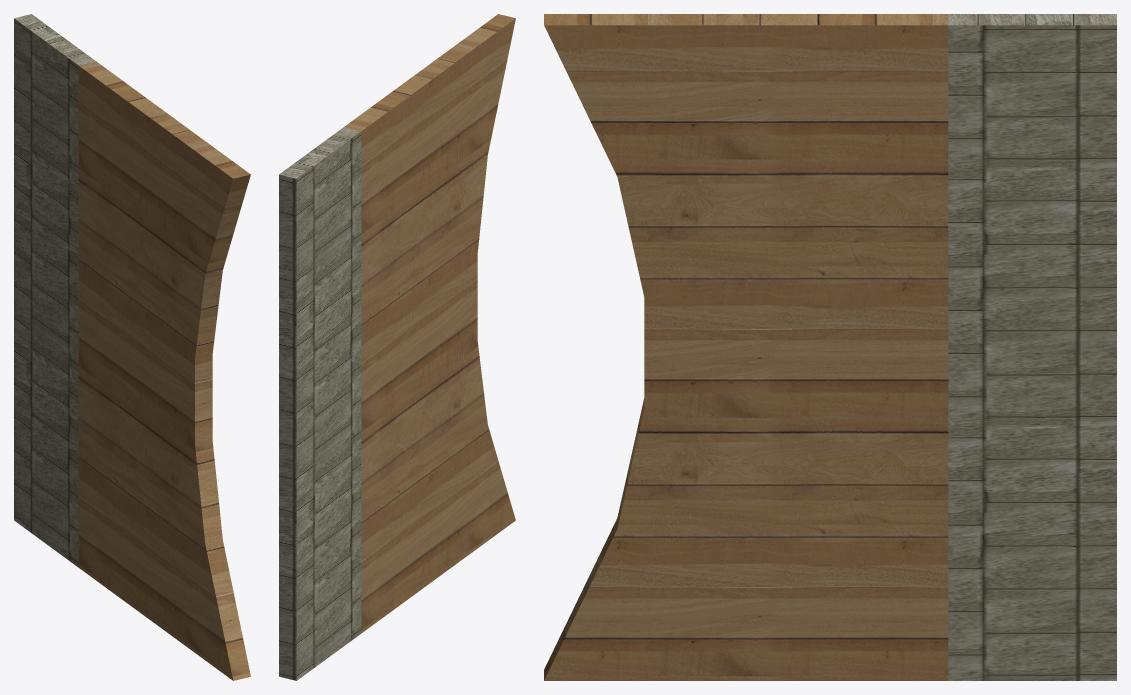
The model's file is nt_concrete_fence_100_tall_LOD1.obj.
3 views of the same model, side by side, from view 1: azimuth 30°, elevation 25°; view 2: azimuth 150°, elevation 25°; view 3: azimuth 270°, elevation 25° (orthographic). The views are drawn at different scales.
Visible parts, largest first — view 1: nt_wood_fence, nt_2020_concrete_pattern_02; view 2: nt_wood_fence, nt_2020_concrete_pattern_02; view 3: nt_wood_fence, nt_2020_concrete_pattern_02.
Part boxes in pixels (x1,y1,x2,y2): nt_wood_fence: (78, 61, 250, 680); nt_2020_concrete_pattern_02: (14, 14, 95, 567); nt_wood_fence: (344, 14, 515, 633); nt_2020_concrete_pattern_02: (279, 127, 361, 680); nt_wood_fence: (544, 14, 948, 680); nt_2020_concrete_pattern_02: (948, 14, 1116, 680).
Bounding box in the file's own units: 9.35 × 255 × 202.
Materials: 2 (2 with a texture image).
